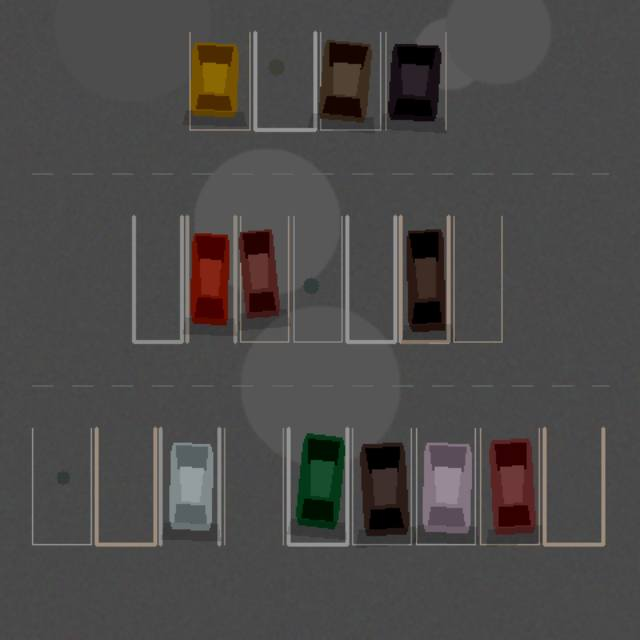space-empty: (32, 428, 91, 544), (96, 428, 155, 544), (224, 428, 283, 544), (544, 428, 603, 544), (133, 216, 181, 341), (293, 216, 341, 341), (347, 216, 395, 341), (453, 216, 501, 341), (255, 32, 315, 129)
space-occupied: (160, 428, 219, 544), (288, 428, 347, 544), (352, 428, 411, 544), (416, 428, 475, 544), (480, 428, 539, 544), (187, 216, 235, 341), (240, 216, 288, 341), (400, 216, 448, 341), (189, 32, 249, 129), (320, 32, 380, 129), (385, 32, 445, 129)
